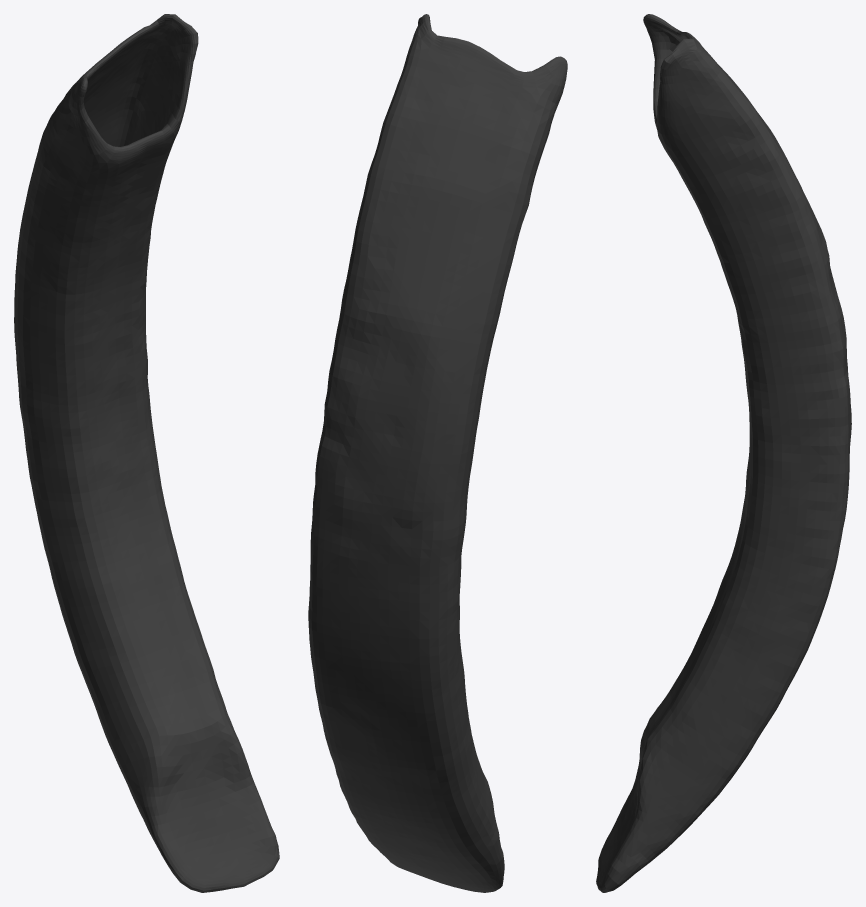
File: tooth_rabbit_401_low.glb
3 views of the same model, side by side, from view 1: azimuth 30°, elevation 25°; view 2: azimuth 150°, elevation 25°; view 3: azimuth 270°, elevation 25° (orthographic). The views are drawn at different scales.
Visible parts, largest first — view 1: tooth_rabbit_401_low; view 2: tooth_rabbit_401_low; view 3: tooth_rabbit_401_low.
Boxes of the visible parts, bbox=[...] form: tooth_rabbit_401_low: bbox=[14, 14, 279, 892]; tooth_rabbit_401_low: bbox=[308, 14, 567, 892]; tooth_rabbit_401_low: bbox=[596, 14, 851, 892].
Size of the model in its own units: 0.4811 by 2.13 by 0.5938.
Materials: 1 (1 with a texture image).
